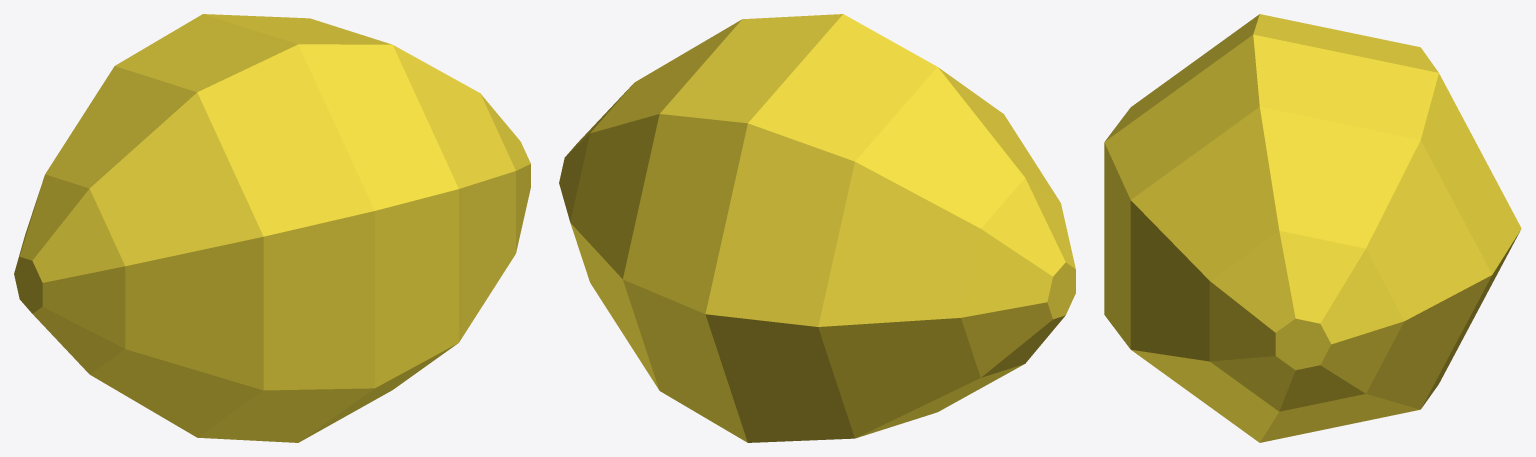
Rendered from FD_Lemon_01.glb.
3 views of the same model, side by side, from view 1: azimuth 30°, elevation 25°; view 2: azimuth 150°, elevation 25°; view 3: azimuth 270°, elevation 25° (orthographic). The views are drawn at different scales.
Parts seen in each view (by area): view 1: FD_Lemon_01; view 2: FD_Lemon_01; view 3: FD_Lemon_01.
Boxes of the visible parts, x1,y1,x2,y2 form: FD_Lemon_01: (14, 14, 530, 442); FD_Lemon_01: (559, 14, 1075, 442); FD_Lemon_01: (1104, 14, 1521, 442).
Size of the model in its own units: 0.075 by 0.0585 by 0.057.
Materials: 1 (1 with a texture image).
